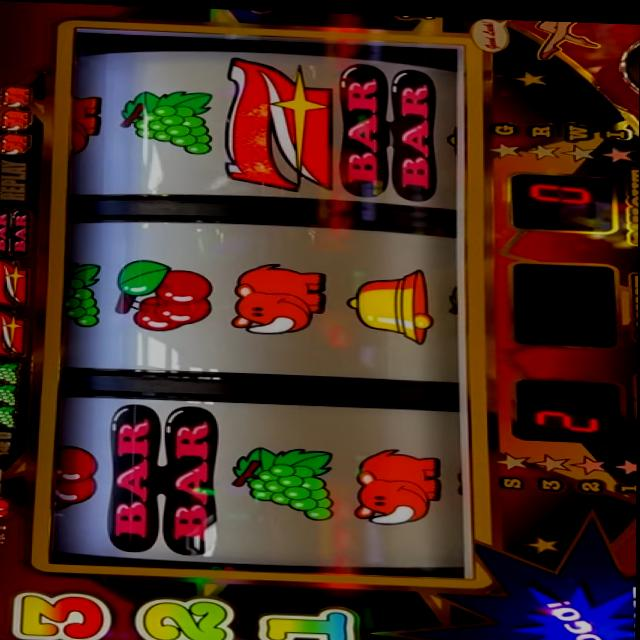bar: (106, 401, 217, 553), (341, 59, 438, 200), (0, 206, 34, 256)
bell: (343, 264, 435, 340)
cherry: (114, 257, 215, 332), (53, 440, 100, 514), (0, 495, 11, 520)
display: (48, 25, 474, 578)
elephant: (229, 259, 331, 334), (353, 443, 441, 525), (68, 91, 104, 154), (0, 84, 34, 108), (0, 130, 31, 155), (0, 108, 32, 130)
grape: (231, 442, 339, 521), (115, 86, 216, 153), (56, 259, 104, 328), (0, 362, 22, 385), (0, 405, 20, 429), (0, 383, 20, 405)
z: (221, 53, 332, 189), (0, 258, 30, 307), (0, 308, 29, 356)
